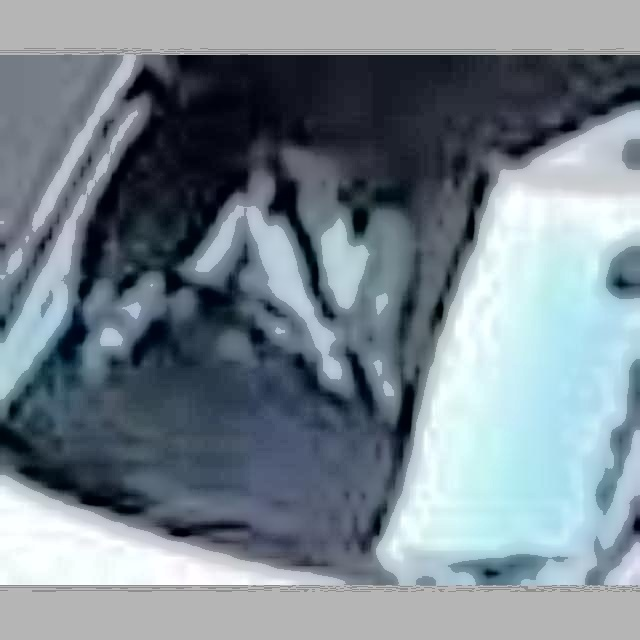pakai: (195, 149, 390, 406)
